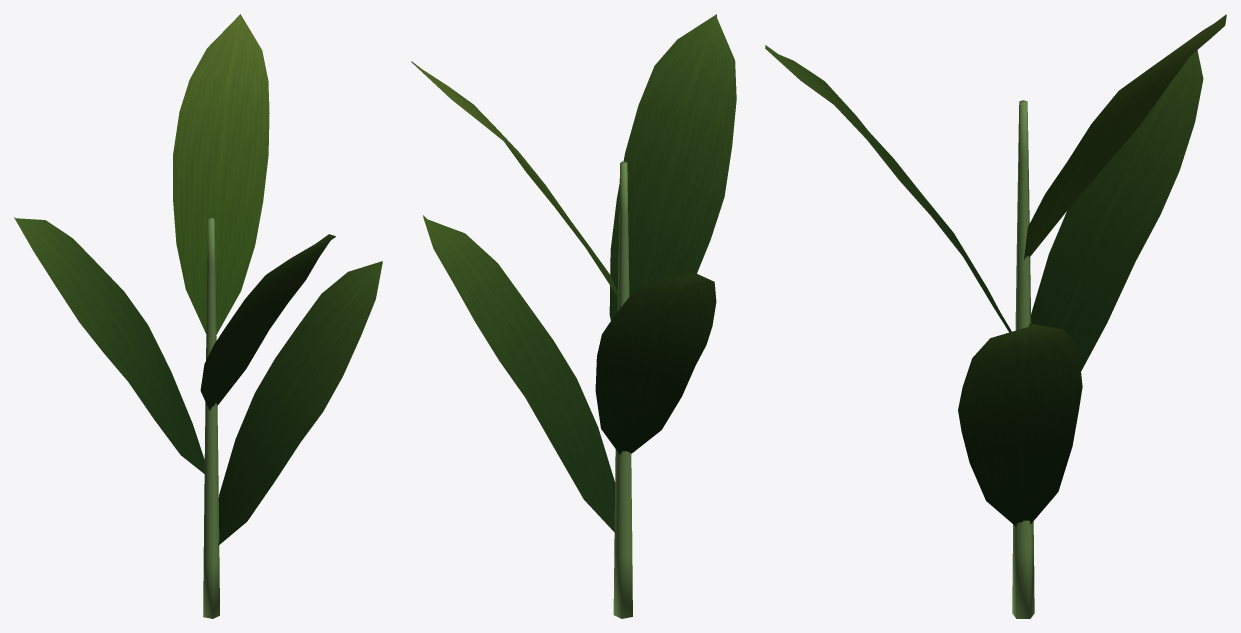
Rendered from tulip-05-lod.glb.
3 renders of one model, left to right at view 1: azimuth 30°, elevation 25°; view 2: azimuth 150°, elevation 25°; view 3: azimuth 270°, elevation 25°, orthographic. The views are drawn at different scales.
Visible parts, largest first — view 1: tulip_stage_05_leaf_veins.009, tulip_stage_05_young_leaf.009, tulip_stage_05_stem_fibres.009; view 2: tulip_stage_05_leaf_veins.009, tulip_stage_05_stem_fibres.009, tulip_stage_05_young_leaf.009; view 3: tulip_stage_05_leaf_veins.009, tulip_stage_05_young_leaf.009, tulip_stage_05_stem_fibres.009.
Boxes of the visible parts, x1,y1,x2,y2 form: tulip_stage_05_leaf_veins.009: (14, 217, 382, 545); tulip_stage_05_young_leaf.009: (173, 14, 269, 334); tulip_stage_05_stem_fibres.009: (203, 217, 219, 618); tulip_stage_05_leaf_veins.009: (423, 14, 736, 533); tulip_stage_05_stem_fibres.009: (613, 161, 632, 618); tulip_stage_05_young_leaf.009: (411, 61, 621, 301); tulip_stage_05_leaf_veins.009: (765, 45, 1203, 526); tulip_stage_05_young_leaf.009: (1024, 14, 1226, 259); tulip_stage_05_stem_fibres.009: (1012, 100, 1034, 618).
Bounding box in the file's own units: 0.1538 × 0.2503 × 0.1565.
Materials: 3 (2 with a texture image).
